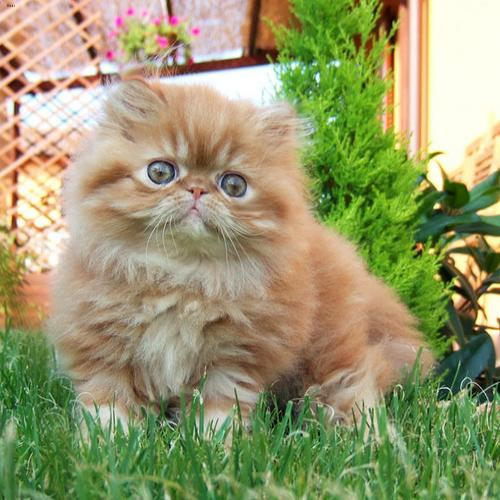persian: (74, 68, 315, 267)
